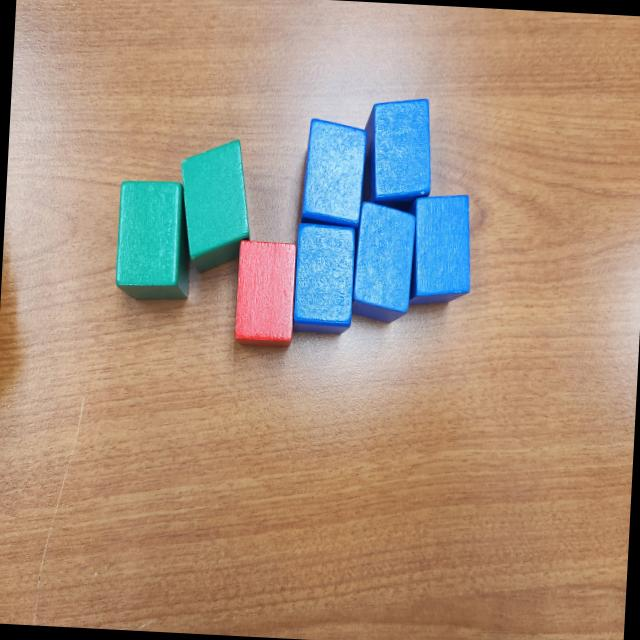blue: (357, 92, 438, 212), (348, 200, 418, 324), (407, 192, 476, 312), (298, 118, 370, 230), (290, 222, 358, 336)
green: (173, 134, 255, 278), (112, 178, 195, 304)
red: (230, 235, 301, 350)
